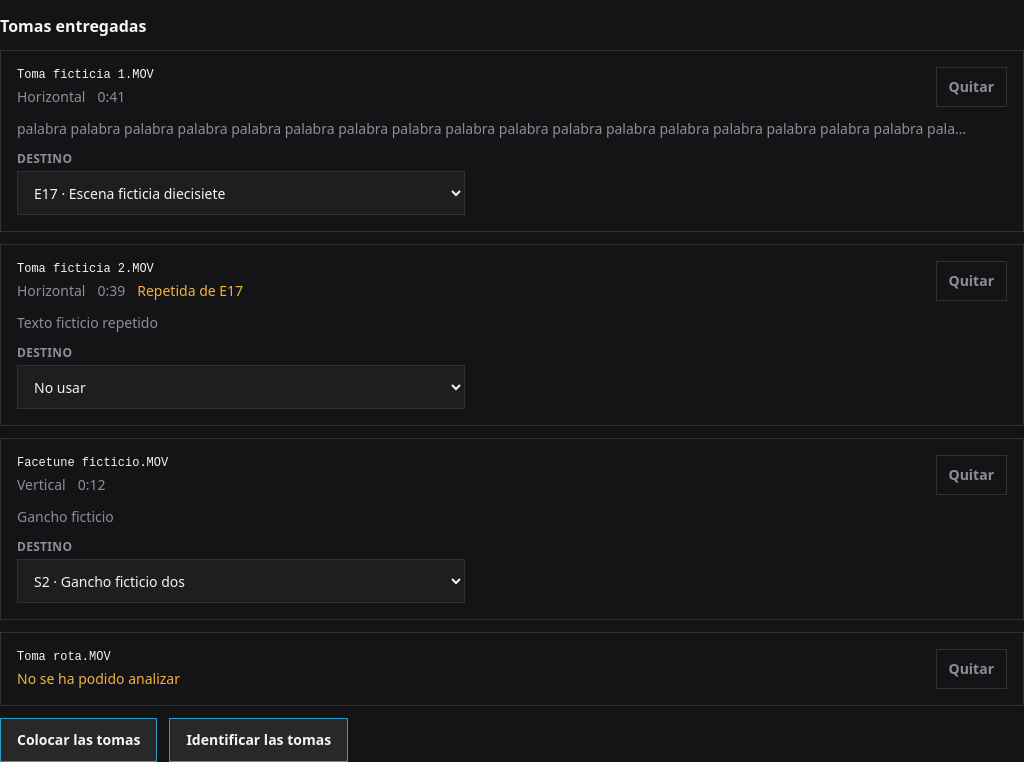
EntregaTomas › con ganchos colocados no ajusta el color: dice que están colocadas y refresca
(page scrolled)
Click the button "Colocar las tomas" at (79, 740), box top-left (0, 718), bottom-right (157, 761)
(page scrolled)
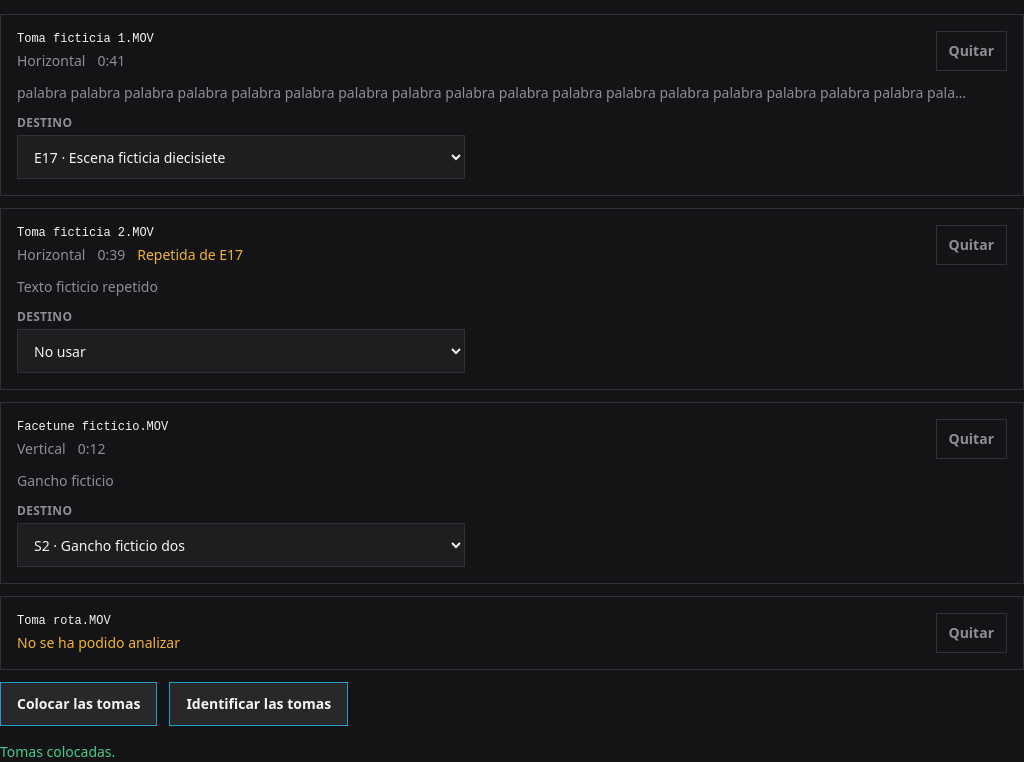
Now the text "Tomas colocadas." is shown, box top-left (0, 742), bottom-right (115, 761)
